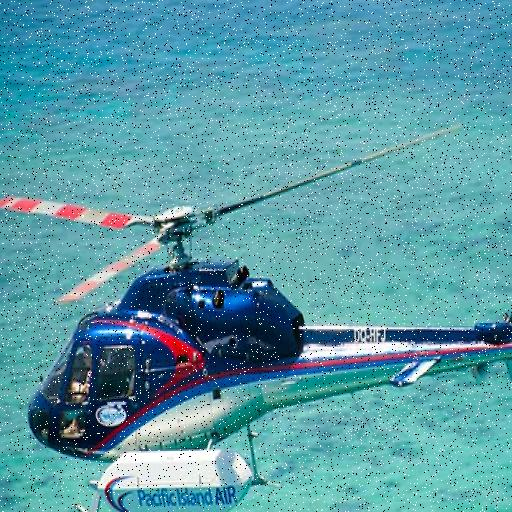helicopter: (18, 123, 512, 512)
